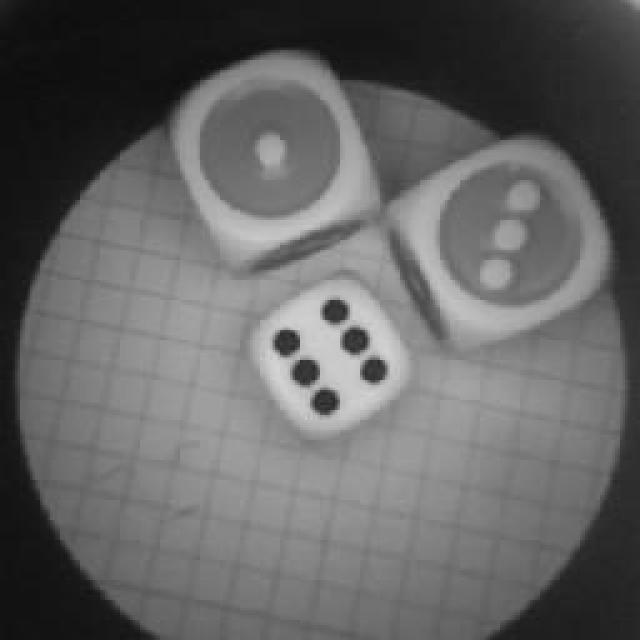dice_1: (167, 40, 385, 282)
dice_3: (388, 128, 618, 352)
dice_6: (248, 262, 418, 452)
